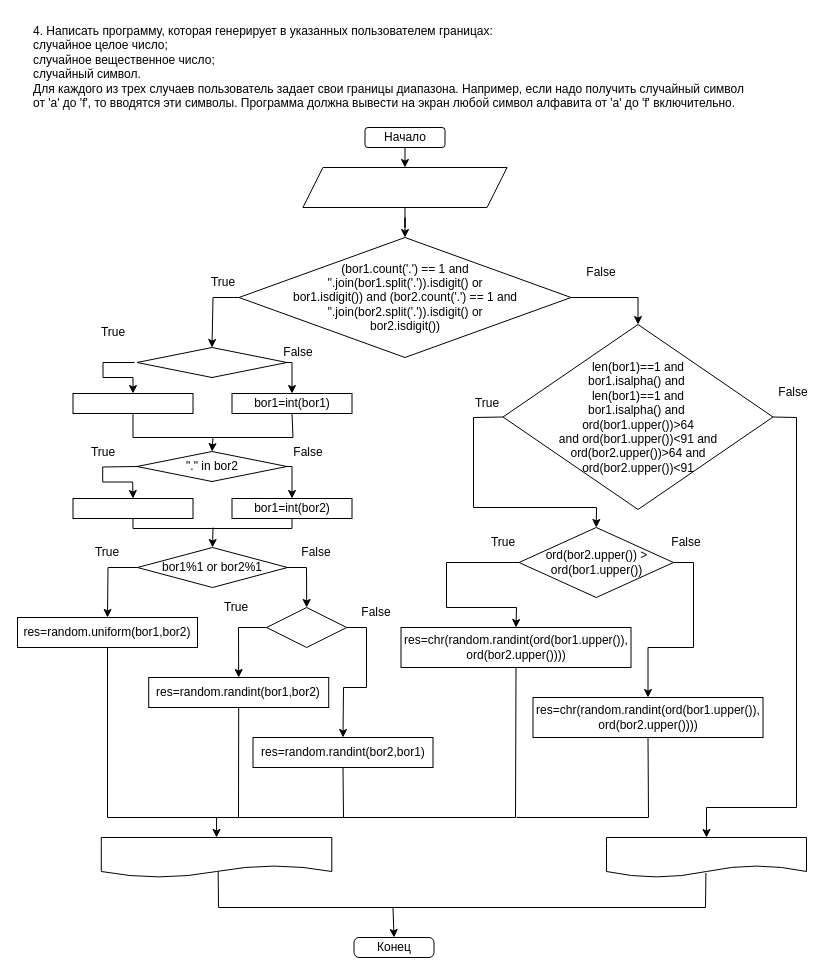
The diagram is 840 pixels wide and 975 high, and some of its shapes have lost their labels. Each missing label, with the centre of its shape:
"." in bor1: the point at 211,362
"Введите границы диапазона генерации" bor1, bor2: the point at 404,187
"Задан неправильный диапазон": the point at 706,857
"Сгенерированное значение = " res: the point at 216,857
bor1=float(bor1): the point at 132,403
bor1=float(bor2): the point at 132,508
bor2>bor1: the point at 306,627
